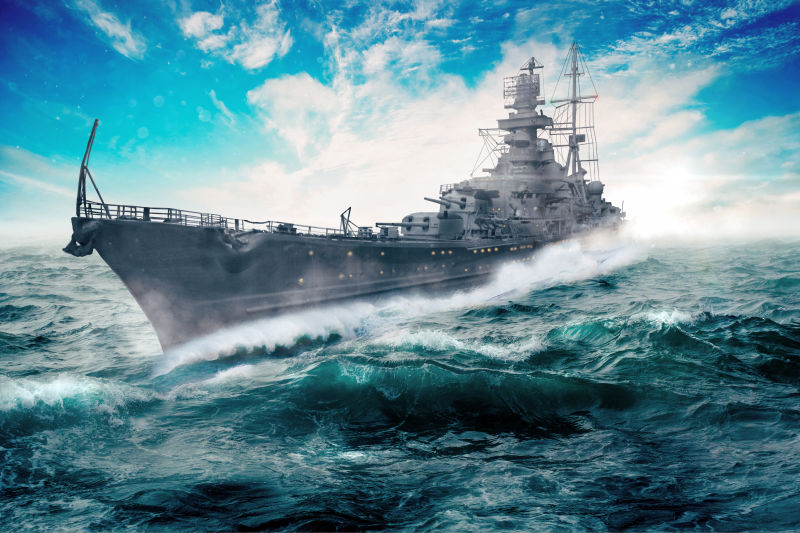warship: (53, 42, 628, 348)
